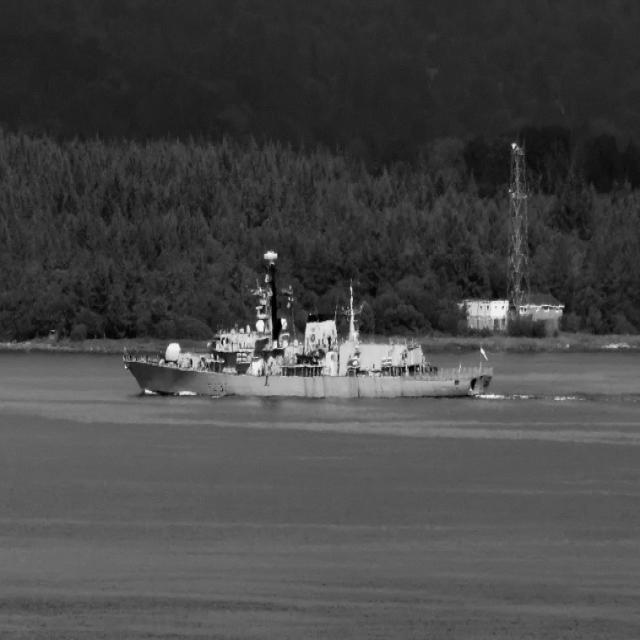Fragata: (123, 246, 496, 405)
